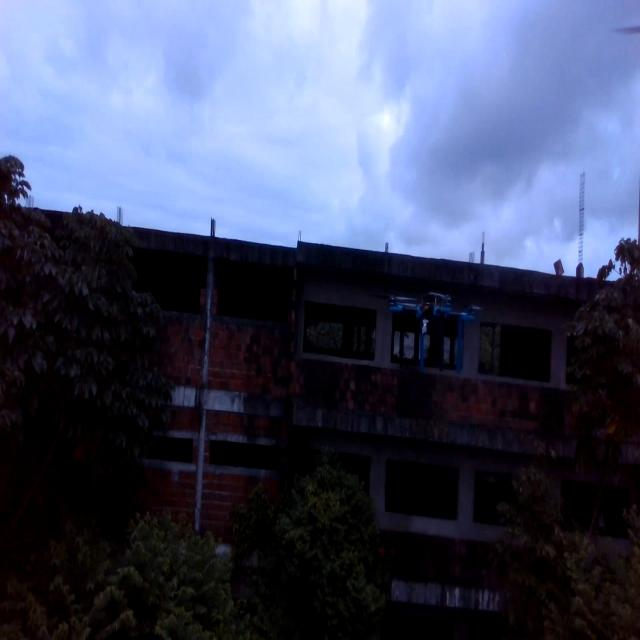-uav-: (387, 265, 488, 382)
